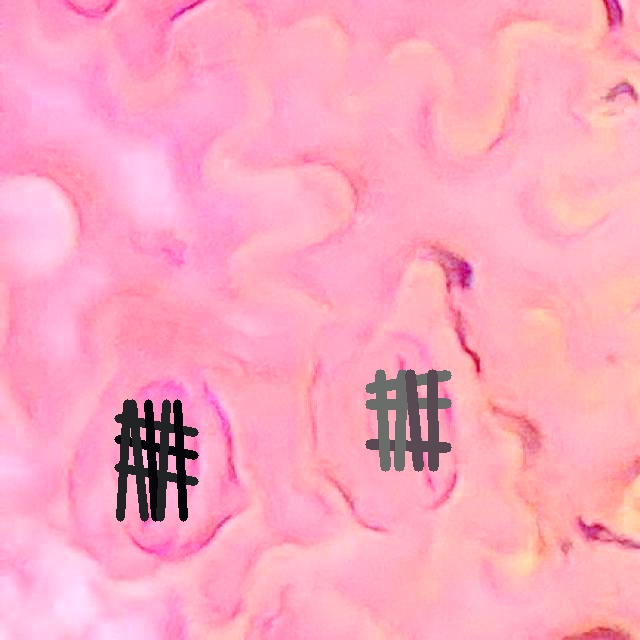close: (114, 399, 198, 521), (366, 369, 451, 470)
